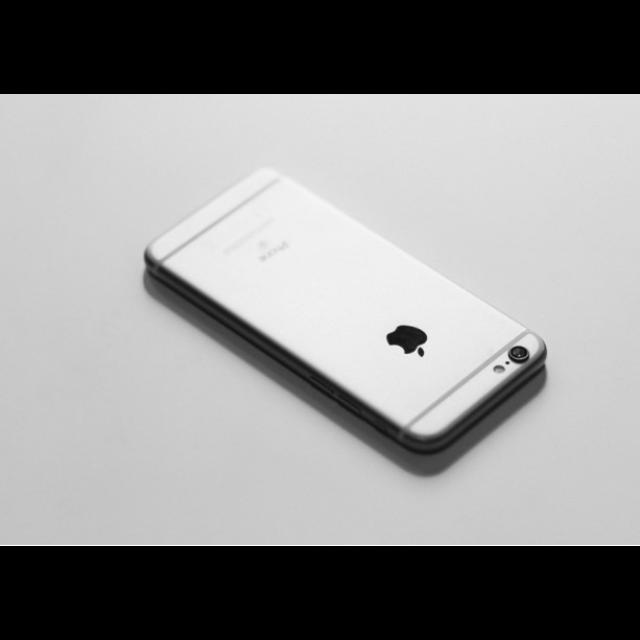Smartphone: (148, 169, 545, 444)
